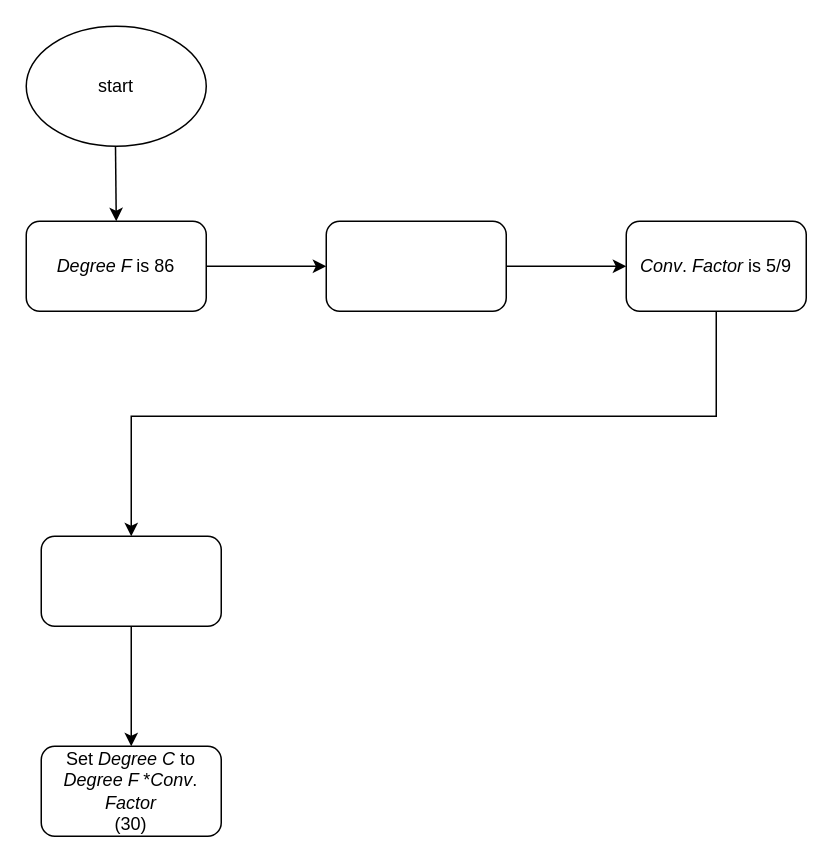
Some shapes in this 833 by 863 pixel diagram are drawn without their labels. The shapes that lost their labels are listed below. From the top down, each one's centre as x and y in pixels, then its label:
At point 415,265: "Freezing Offset is 32".
At point 130,580: "Set Degree C to Degree F - Freezing Offset (54)".
